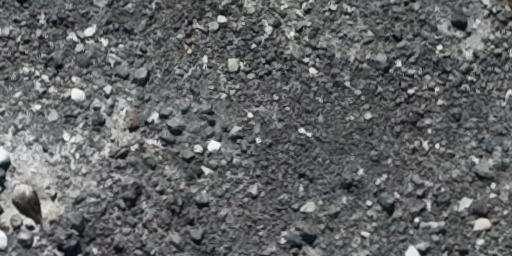skua: (4, 179, 51, 228)
